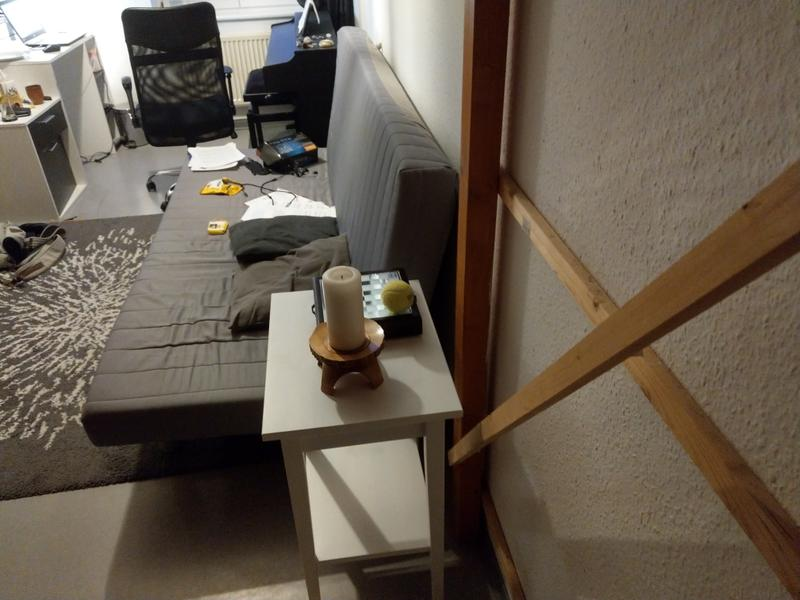Tennisball: (380, 277, 420, 316)
